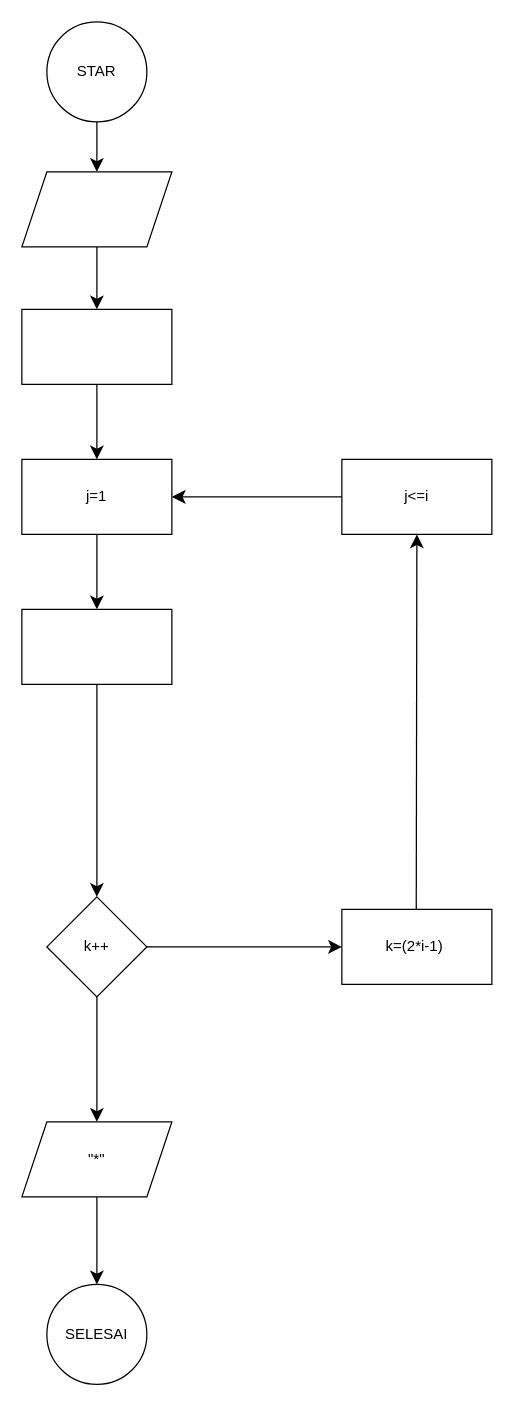
This 514x1406 diagram has some shape labels left out. The shapes that lost their labels are listed below. From the top down, each one's centre as x and y in pixels, then its label:
point 96,209: N=5
point 96,346: i=1
point 96,646: k=1
